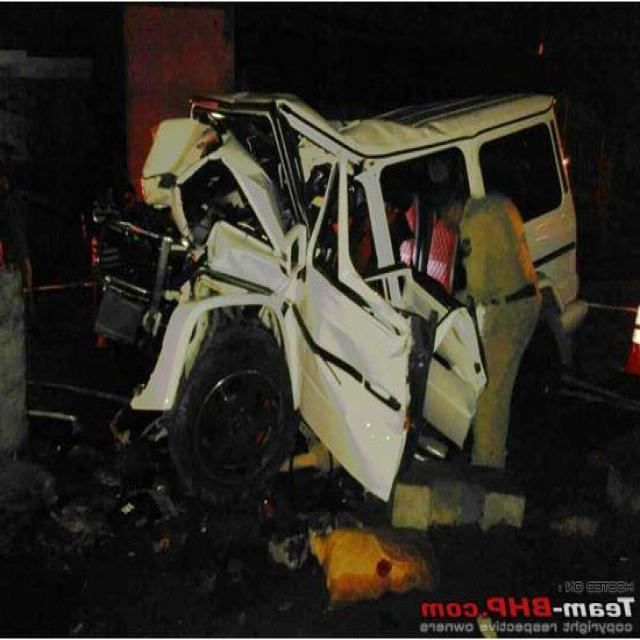accident: (96, 94, 585, 516)
